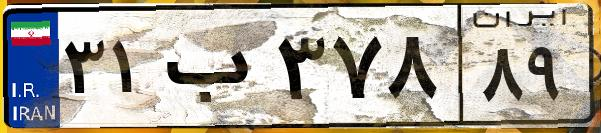1: (110, 28, 158, 98)
3: (270, 28, 330, 110), (57, 26, 110, 100)
7: (330, 28, 385, 110)
8: (385, 28, 445, 110), (475, 38, 525, 113)
9: (525, 38, 570, 115)
ب: (158, 20, 270, 120)
